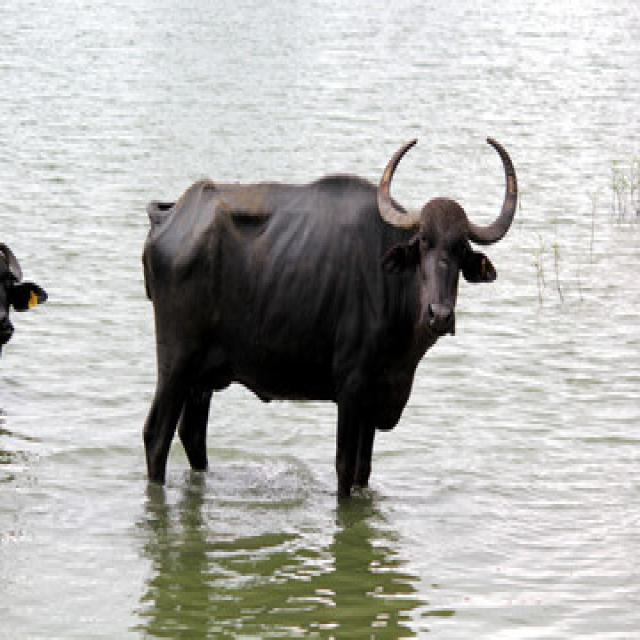Buffalo: (140, 128, 518, 490)
